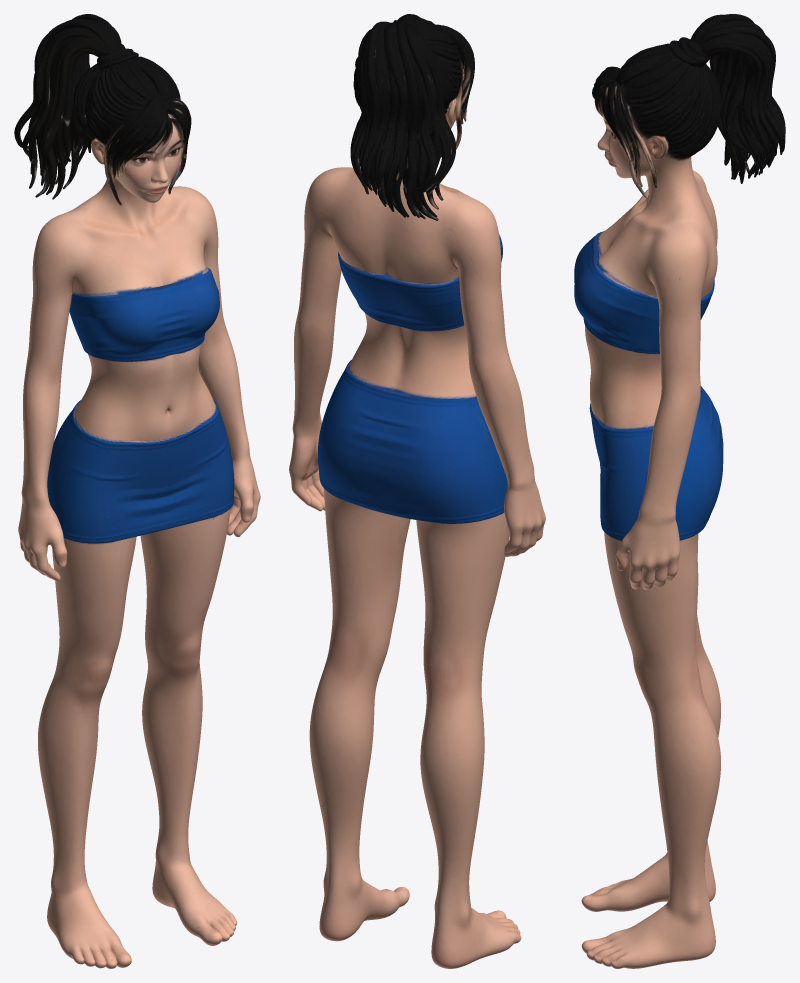
The model's file is body_4k_src.glb.
3 views of the same model, side by side, from view 1: azimuth 30°, elevation 25°; view 2: azimuth 150°, elevation 25°; view 3: azimuth 270°, elevation 25° (orthographic). The views are drawn at different scales.
Bounding box in the file's own units: 0.5154 × 1.9 × 0.4011.
Materials: 1 (1 with a texture image).
